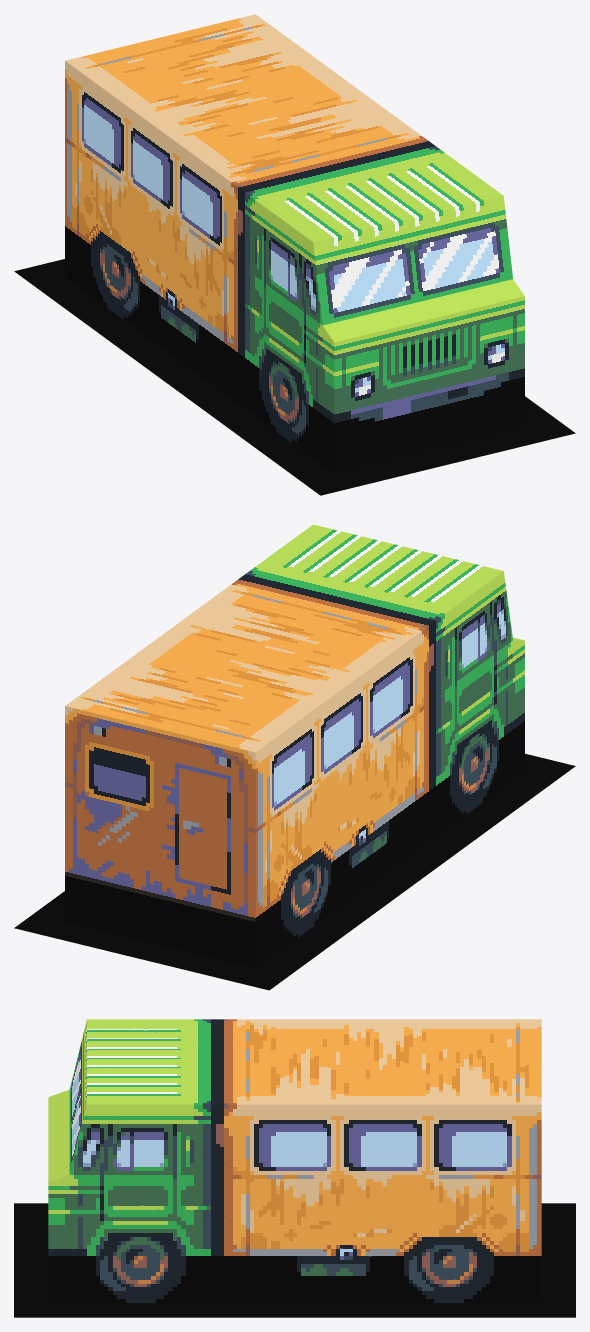
3 renders of one model, top to bottom at view 1: azimuth 30°, elevation 25°; view 2: azimuth 150°, elevation 25°; view 3: azimuth 270°, elevation 25°, orthographic. The views are drawn at different scales.
Visible parts, largest first — view 1: 2 - Vibrant.002; view 2: 2 - Vibrant.002; view 3: 2 - Vibrant.002.
Part boxes in pixels (x1,y1,x2,y2): 2 - Vibrant.002: (14,14,575,495); 2 - Vibrant.002: (14,524,575,990); 2 - Vibrant.002: (14,1019,575,1317).
Size of the model in its own units: 1.97 by 1.59 by 4.09.
Materials: 1 (1 with a texture image).
